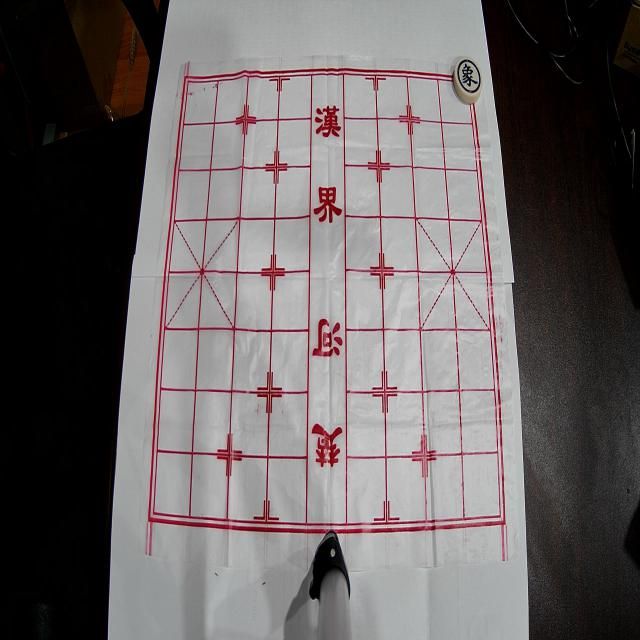black-elephant: (453, 56, 482, 104)
